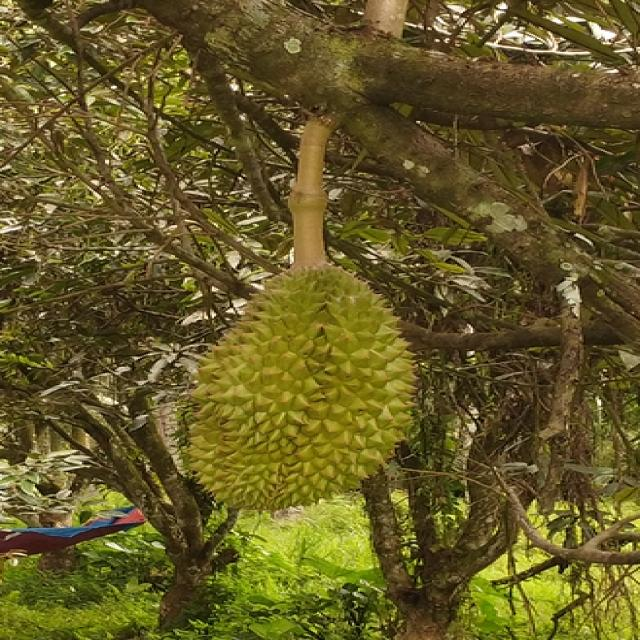immature: (179, 257, 416, 512)
